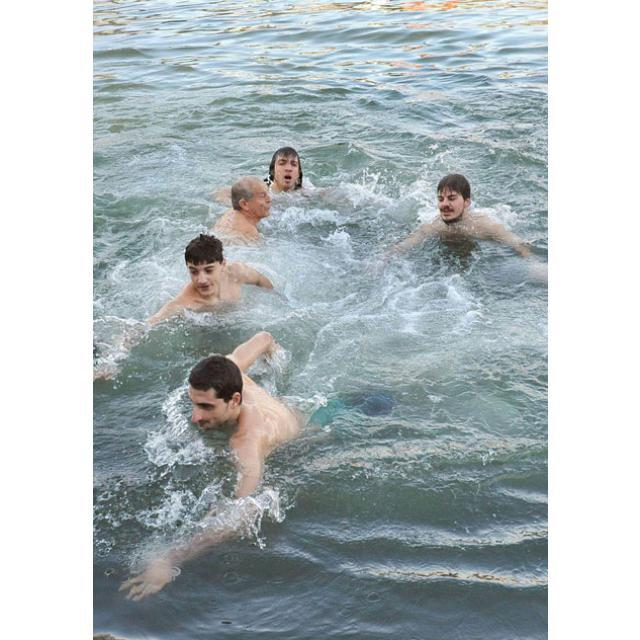human: (128, 323, 311, 602), (384, 167, 525, 260), (142, 233, 274, 311), (213, 173, 272, 234), (266, 141, 305, 194)
